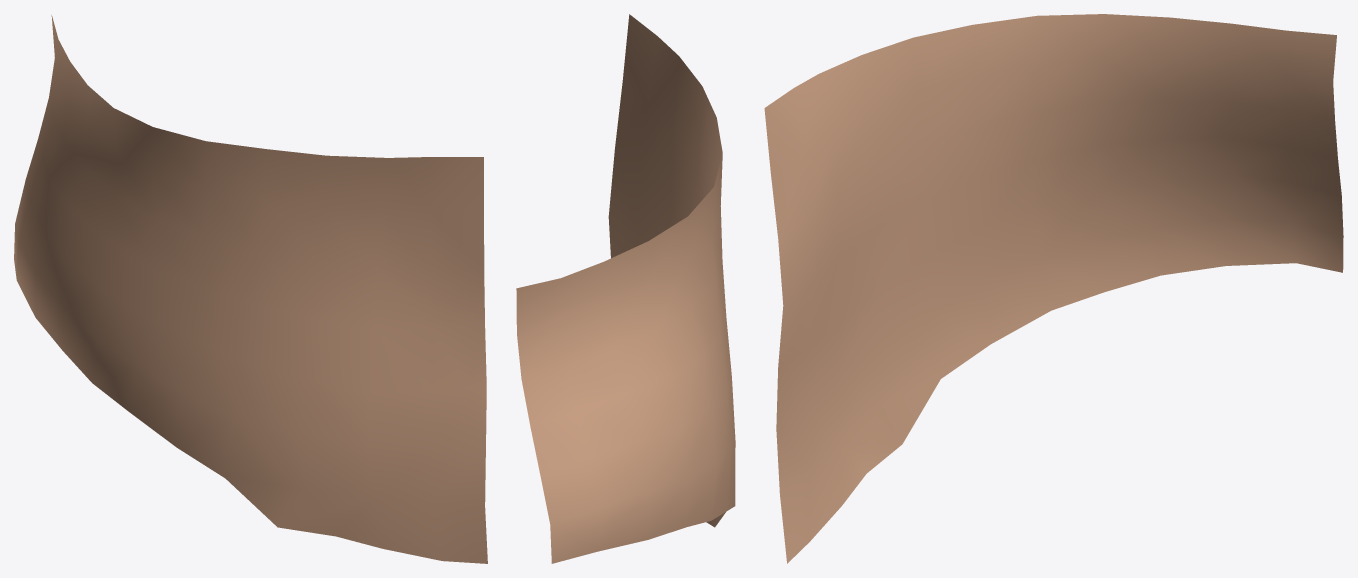
The model's file is lateral-region-of-abdomen-r.glb.
The picture shows the model from 3 angles, left to right: view 1: azimuth 30°, elevation 25°; view 2: azimuth 150°, elevation 25°; view 3: azimuth 270°, elevation 25°; orthographic projection. The views are drawn at different scales.
Parts seen in each view (by area): view 1: Lateral region of abdomen.r; view 2: Lateral region of abdomen.r; view 3: Lateral region of abdomen.r.
Part boxes in pixels (x1,y1,x2,y2): Lateral region of abdomen.r: (14,15,487,563); Lateral region of abdomen.r: (516,14,735,563); Lateral region of abdomen.r: (764,14,1343,563).
Bounding box in the file's own units: 0.0826 × 0.1311 × 0.1535.
